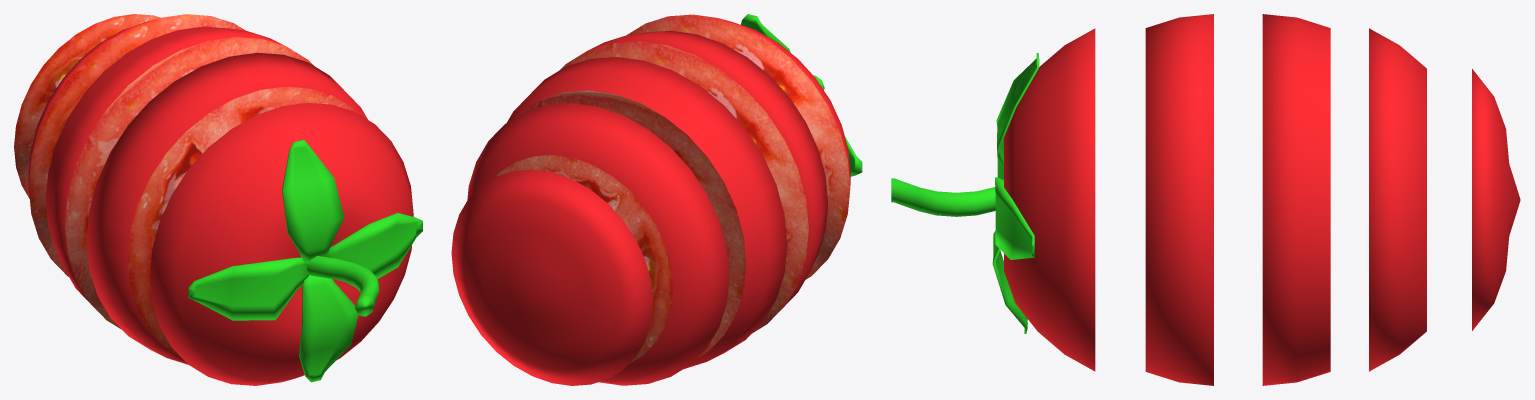
Rendered from tomat 4.fbx.
The picture shows the model from 3 angles, left to right: view 1: azimuth 30°, elevation 25°; view 2: azimuth 150°, elevation 25°; view 3: azimuth 270°, elevation 25°; orthographic projection. The views are drawn at different scales.
Parts seen in each view (by area): view 1: tomat 4, tomat 0004, tomat 004, potongan 04, potongan 4; view 2: potongan 4, potongan 04, tomat 004, tomat 0004, tomat 4; view 3: tomat 4, tomat 004, tomat 0004, potongan 04, potongan 4.
Part boxes in pixels (<box>): tomat 4: <box>149,102,422,385</box>; tomat 0004: <box>86,52,367,364</box>; tomat 004: <box>45,26,313,329</box>; potongan 04: <box>28,14,245,276</box>; potongan 4: <box>14,14,160,198</box>; potongan 4: <box>451,169,652,385</box>; potongan 04: <box>467,103,729,385</box>; tomat 004: <box>507,57,787,368</box>; tomat 0004: <box>560,30,828,333</box>; tomat 4: <box>627,14,862,279</box>; tomat 4: <box>891,28,1095,371</box>; tomat 004: <box>1262,14,1330,385</box>; tomat 0004: <box>1145,14,1213,385</box>; potongan 04: <box>1369,28,1426,371</box>; potongan 4: <box>1472,69,1520,330</box>.
Bounding box in the file's own units: 99.6 × 99.6 × 168.
Materials: 3 (1 with a texture image).
